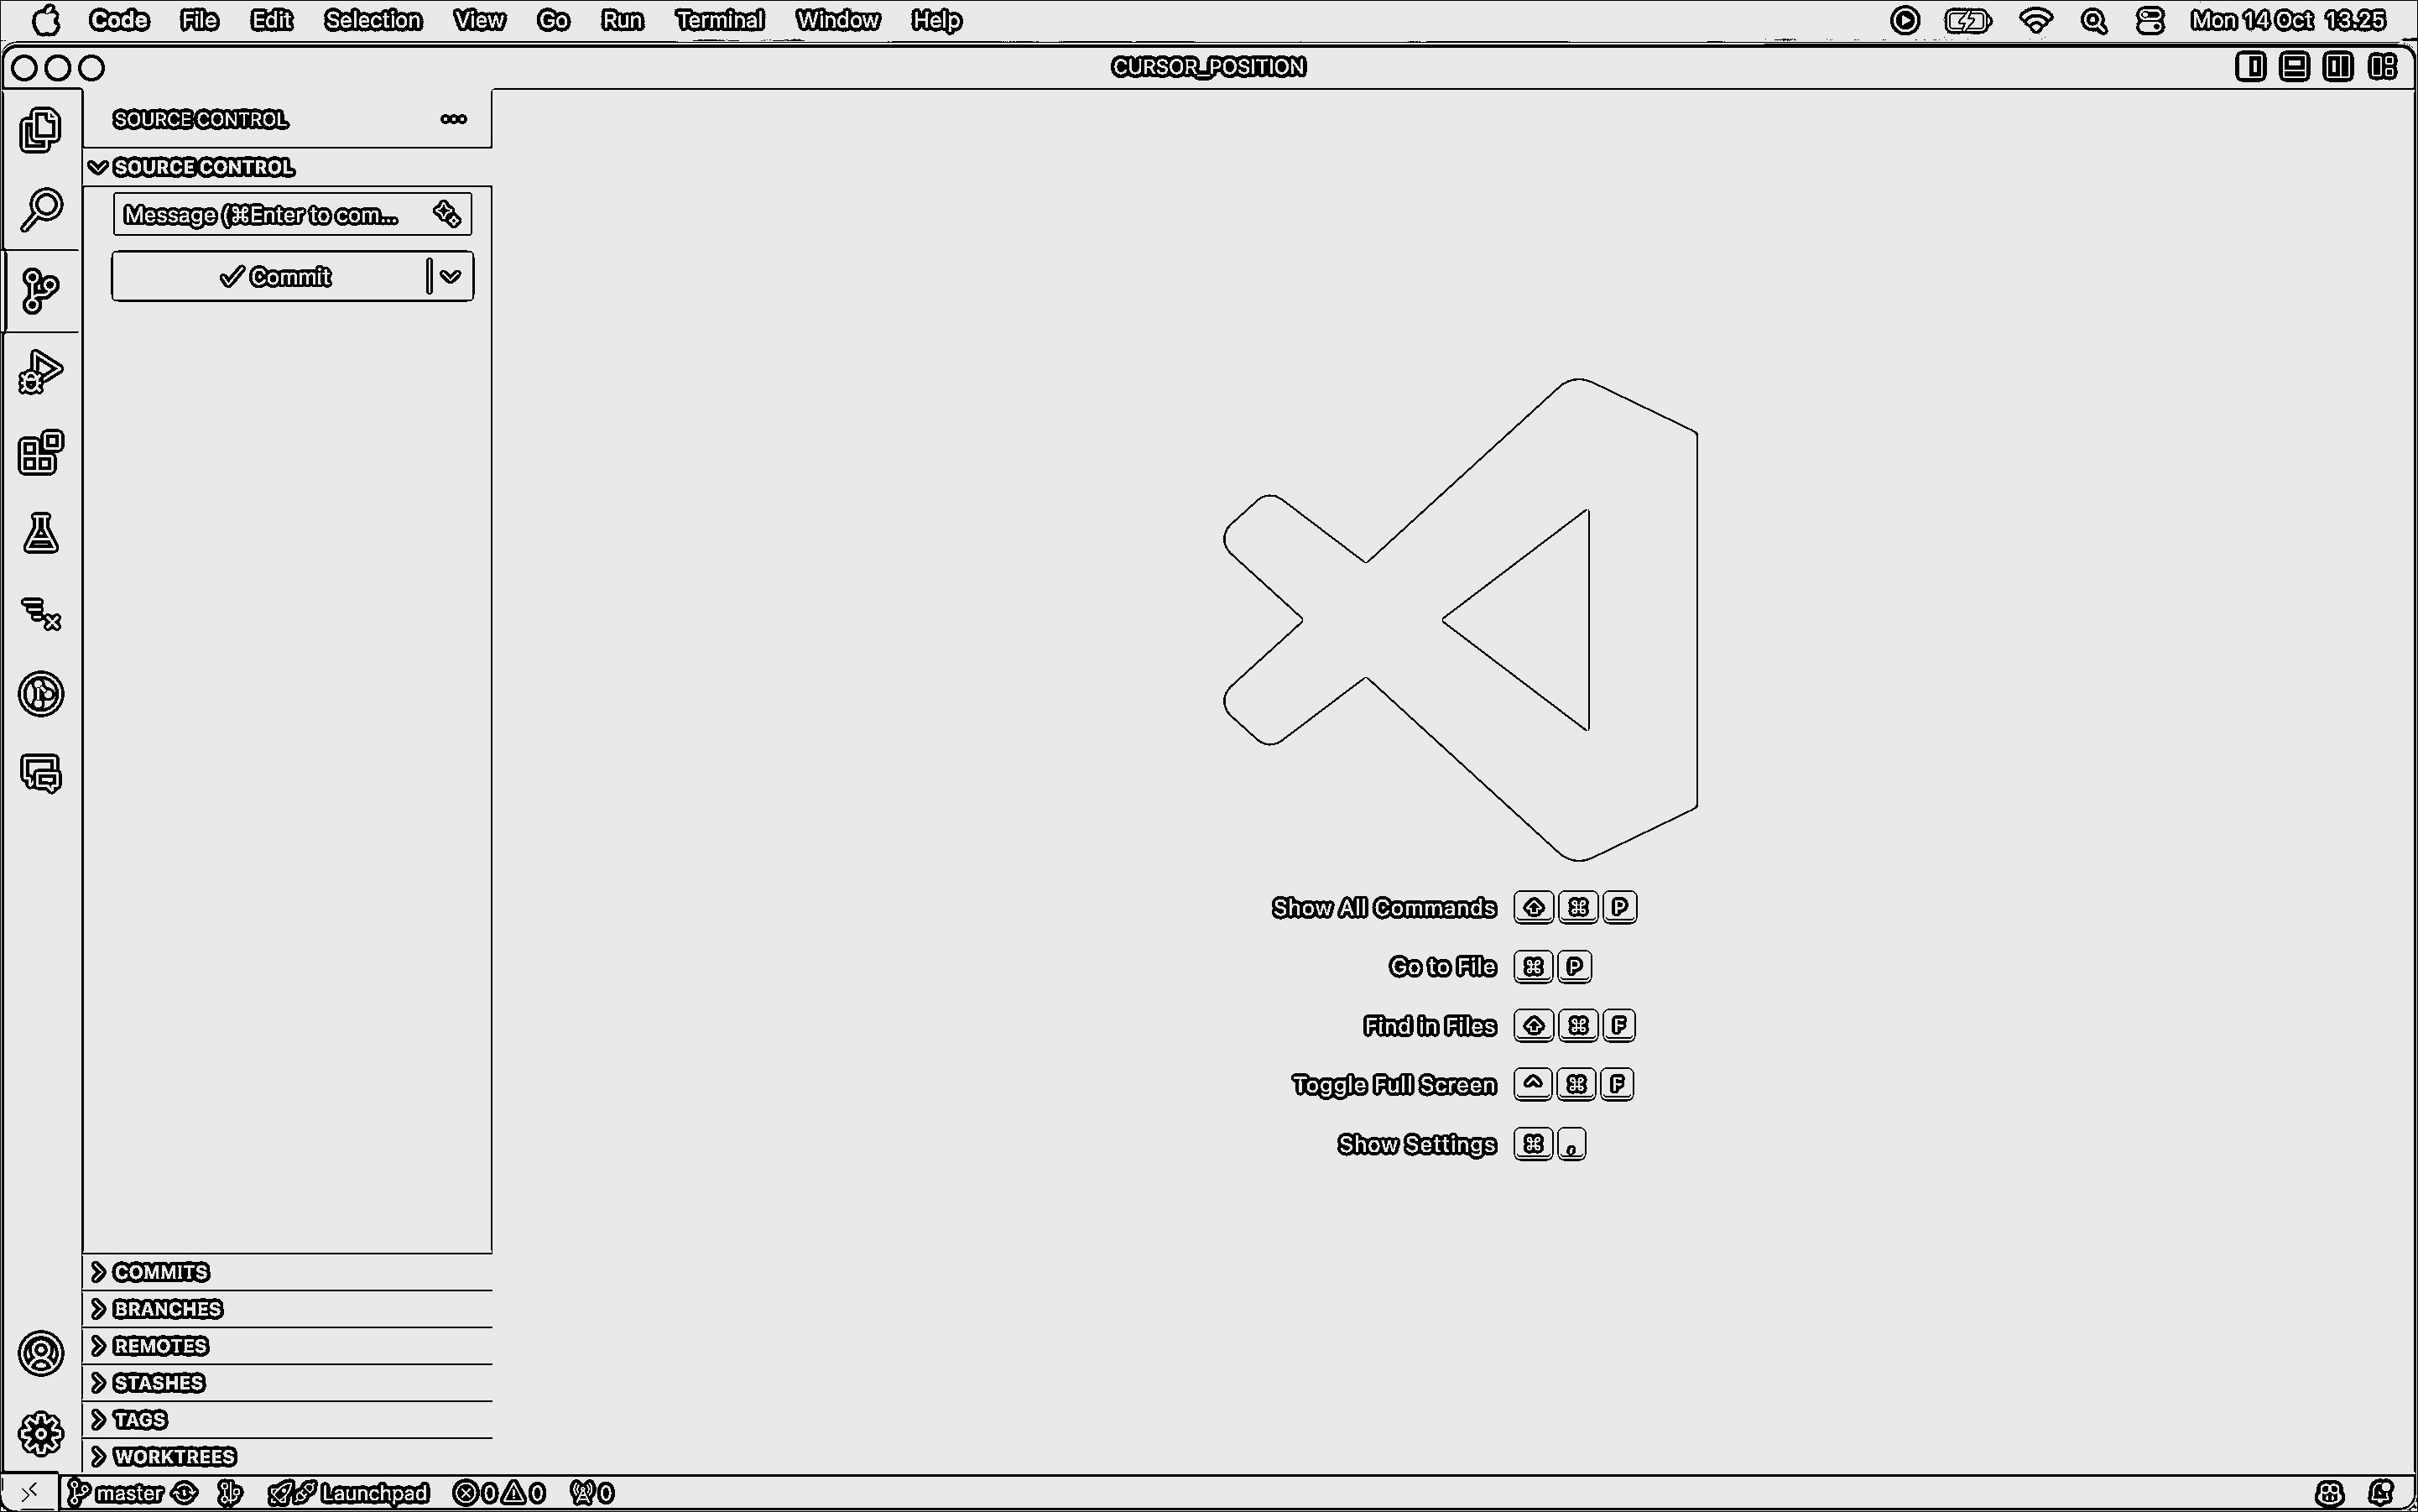Accounts: (5, 1329, 80, 1385)
Activity Bar: (3, 87, 84, 1472)
Editor: (500, 92, 2411, 1470)
Explorer: (9, 101, 73, 162)
Extensions: (12, 425, 77, 484)
Manage: (5, 1402, 77, 1460)
Primary Side Bar: (85, 91, 491, 1472)
Run and Debug: (9, 348, 68, 404)
Search: (14, 179, 70, 253)
Source Control: (12, 261, 68, 327)
Status Bar: (3, 1472, 2411, 1505)
Testing: (12, 509, 71, 566)
